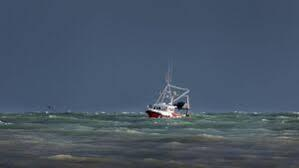Ship: (146, 80, 191, 119)
